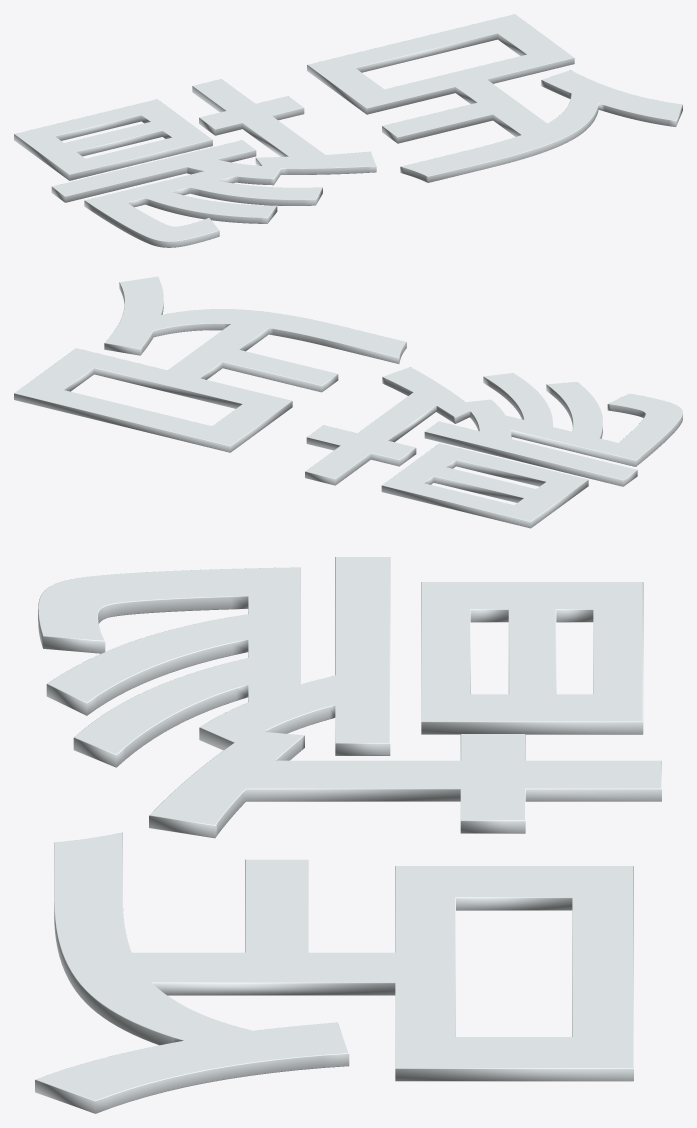
Rendered from category_platform.obj.
The picture shows the model from 3 angles, top to bottom: view 1: azimuth 30°, elevation 25°; view 2: azimuth 150°, elevation 25°; view 3: azimuth 270°, elevation 25°; orthographic projection. The views are drawn at different scales.
Parts seen in each view (by area): view 1: category_platform; view 2: category_platform; view 3: category_platform.
Boxes of the visible parts, x1=… form: category_platform: x1=14, y1=14, x2=682, y2=247; category_platform: x1=14, y1=276, x2=682, y2=528; category_platform: x1=35, y1=557, x2=661, y2=1113.
Bounding box in the file's own units: 1.48 × 0.0166 × 0.72.
1 material, 1 textured.
